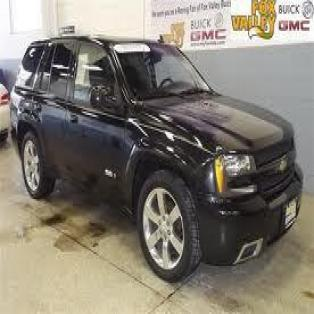Auto: (6, 26, 308, 285)
